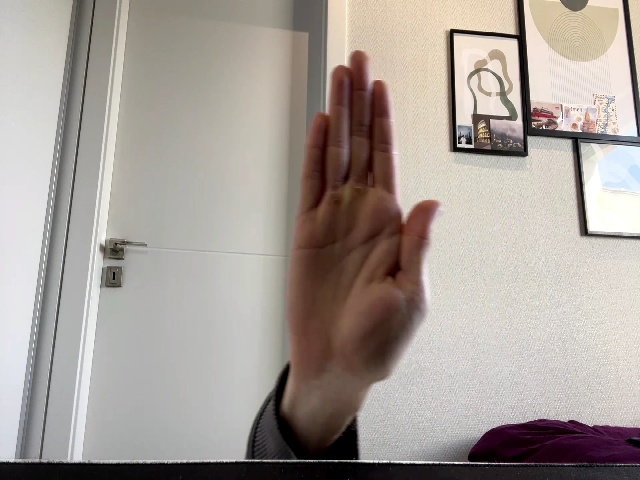B: (286, 51, 441, 381)
